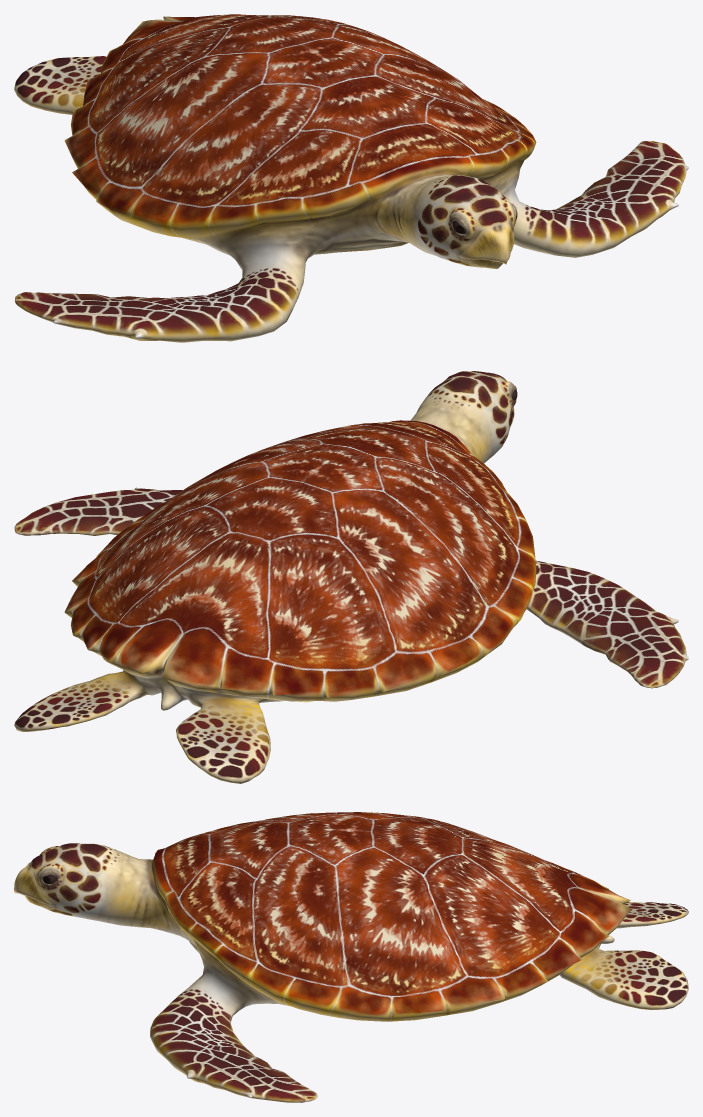
Rendered from hawksbill_turtle.glb.
The picture shows the model from 3 angles, top to bottom: view 1: azimuth 30°, elevation 25°; view 2: azimuth 150°, elevation 25°; view 3: azimuth 270°, elevation 25°; orthographic projection. The views are drawn at different scales.
Parts seen in each view (by area): view 1: turtle; view 2: turtle; view 3: turtle.
Boxes of the visible parts, <box> form: turtle: <box>14,14,688,342</box>; turtle: <box>14,371,688,783</box>; turtle: <box>14,812,688,1102</box>.
Bounding box in the file's own units: 1.94 × 0.4769 × 2.
3 materials, 3 textured.
